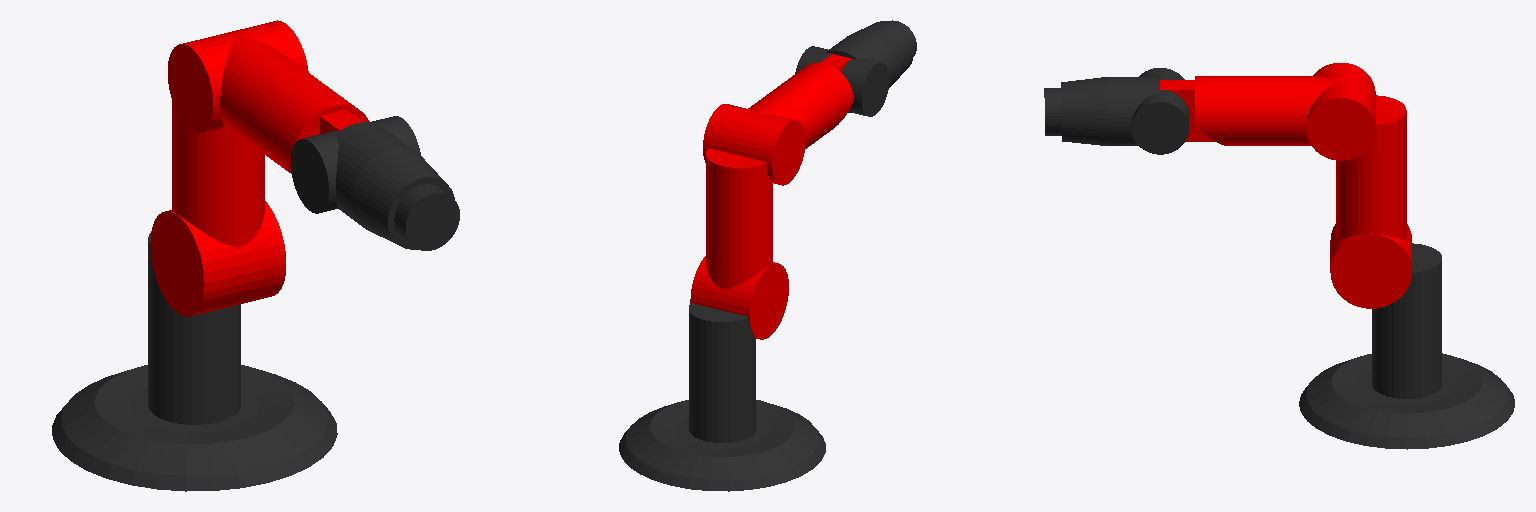
robot.urdf — gripbot:
<?xml version="1.0"?>
<!-- created with Phobos 0.7 -->
<robot name="gripbot">

  <link name="arm_visual_link">
    <inertial>
      <origin xyz="0 0 0" rpy="0 0 0"/>
      <mass value="19.56717"/>
      <inertia ixx="0.503760" ixy="0" ixz="0" iyy="0.07578849" iyz="0" izz="0.50375514"/>
    </inertial>
    <visual name="arm_visual">
      <origin xyz="0 0 0" rpy="0 0 0"/>
      <geometry>
        <mesh filename="package://gripbot_description/meshes/stl/ID36.001.stl" scale="1.0 1.0 1.0"/>
      </geometry>
      <material name="Color_A05"/>
    </visual>
    <collision name="gripbot::arm_visual">
      <origin xyz="-0.00265 -0.19123 0.0002" rpy="0 0 0"/>
      <geometry>
        <box size="0.15244 0.53451 0.15245"/>
      </geometry>
    </collision>
    <collision name="gripbot::girdle_receptor_visual">
      <origin xyz="0 0 0" rpy="0 0 0"/>
      <geometry>
        <box size="0.18304 0.15204 0.15204"/>
      </geometry>
    </collision>
  </link>

  <link name="base_column_link">
    <inertial>
      <origin xyz="0 0 0" rpy="0 0 0"/>
      <mass value="33.204"/>
      <inertia ixx="0.17785" ixy="0" ixz="0" iyy="0.15673" iyz="0" izz="0.156739"/>
    </inertial>
    <visual name="base_column_receptor_visual">
      <origin xyz="0 -0.07833 0.30885" rpy="0 0 0"/>
      <geometry>
        <mesh filename="package://gripbot_description/meshes/stl/Circle.002.stl" scale="1.0 1.0 1.0"/>
      </geometry>
      <material name="Color_A05"/>
    </visual>
    <visual name="base_column_visual">
      <origin xyz="0 0 0" rpy="0 0 0"/>
      <geometry>
        <mesh filename="package://gripbot_description/meshes/stl/Circle.stl" scale="1.0 1.0 1.0"/>
      </geometry>
      <material name="Color_M07"/>
    </visual>
    <collision name="gripbot::base_column_mount_visual">
      <origin xyz="0 -0.07833 0.30885" rpy="0 0 0"/>
      <geometry>
        <box size="0.15655 0.17927 0.17927"/>
      </geometry>
    </collision>
    <collision name="gripbot::base_column_visual">
      <origin xyz="0 0 0.15275" rpy="0 0 0"/>
      <geometry>
        <box size="0.15423 0.15423 0.30549"/>
      </geometry>
    </collision>
  </link>

  <link name="base_mount_link">
    <inertial>
      <origin xyz="0 0 0" rpy="0 0 0"/>
      <mass value="240"/>
      <inertia ixx="2.4213" ixy="0" ixz="0" iyy="2.4213" iyz="0" izz="4.76351"/>
    </inertial>
    <visual name="base_mount_visual">
      <origin xyz="0 0 0" rpy="0 0 0"/>
      <geometry>
        <mesh filename="package://gripbot_description/meshes/stl/Circle.004.stl" scale="1.0 1.0 1.0"/>
      </geometry>
      <material name="Color_M07"/>
    </visual>
    <collision name="gripbot::base_mount_visual">
      <origin xyz="0 0 -0.01433" rpy="0 0 0"/>
      <geometry>
        <box size="0.4898 0.4898 0.0631"/>
      </geometry>
    </collision>
  </link>

  <link name="forearm_visual_link">
    <inertial>
      <origin xyz="0 0 0" rpy="0 0 0"/>
      <mass value="9.055067"/>
      <inertia ixx="0.067333" ixy="0" ixz="0" iyy="0.0673332" iyz="0" izz="0.028292"/>
    </inertial>
    <visual name="forearm_visual">
      <origin xyz="0 0 0" rpy="0 0 0"/>
      <geometry>
        <mesh filename="package://gripbot_description/meshes/stl/ID82.001.stl" scale="1.0 1.0 1.0"/>
      </geometry>
      <material name="Color_M07"/>
    </visual>
    <collision name="forearm_collision">
      <origin xyz="0 0 0" rpy="1.5708 0 0"/>
      <geometry>
        <cylinder radius="0.07905" length="0.26549"/>
      </geometry>
    </collision>
    <collision name="forearm_mount_collision">
      <origin xyz="0 0 0" rpy="1.5708 0 1.5708"/>
      <geometry>
        <cylinder radius="0.0665" length="0.17955"/>
      </geometry>
    </collision>
  </link>

  <link name="girdle_visual_link">
    <inertial>
      <origin xyz="0 0 0" rpy="0 0 0"/>
      <mass value="8.62636"/>
      <inertia ixx="0.085577" ixy="0" ixz="0" iyy="0.085577" iyz="0" izz="0.034199"/>
    </inertial>
    <visual name="girdle_mount_visual">
      <origin xyz="0 0 0" rpy="0 0 0"/>
      <geometry>
        <mesh filename="package://gripbot_description/meshes/stl/Circle.005.stl" scale="1.0 1.0 1.0"/>
      </geometry>
      <material name="Color_A05"/>
    </visual>
    <visual name="girdle_receptor_visual">
      <origin xyz="0 0 0" rpy="0 0 0"/>
      <geometry>
        <mesh filename="package://gripbot_description/meshes/stl/Circle.001.stl" scale="1.0 1.0 1.0"/>
      </geometry>
      <material name="Color_A05"/>
    </visual>
    <visual name="girdle_visual">
      <origin xyz="0 0 0" rpy="0 0 0"/>
      <geometry>
        <mesh filename="package://gripbot_description/meshes/stl/Circle.003.stl" scale="1.0 1.0 1.0"/>
      </geometry>
      <material name="Color_A05"/>
    </visual>
    <collision name="gripbot::girdle_visual">
      <origin xyz="0 0 0.19929" rpy="0 0 0"/>
      <geometry>
        <box size="0.15423 0.15423 0.30864"/>
      </geometry>
    </collision>
  </link>

  <joint name="arm_visual_link" type="revolute">
    <origin xyz="0 -0.06624 0.34976" rpy="0 0 0"/>
    <parent link="girdle_visual_link"/>
    <child link="arm_visual_link"/>
    <axis xyz="1.0 0 0"/>
    <limit lower="-1.5708" upper="0.59341" effort="135000.0" velocity="6000.28319"/>
  </joint>

  <joint name="base_column_link" type="revolute">
    <origin xyz="0 0 0" rpy="0 0 0"/>
    <parent link="base_mount_link"/>
    <child link="base_column_link"/>
    <axis xyz="0 0 1.0"/>
    <limit lower="-3.14159" upper="3.14159" effort="135000.0" velocity="6000.28319"/>
  </joint>

  <joint name="forearm_visual_link" type="revolute">
    <origin xyz="-0.00268 -0.39555 -0.0001" rpy="0 0 0"/>
    <parent link="arm_visual_link"/>
    <child link="forearm_visual_link"/>
    <axis xyz="1.0 0 0"/>
    <limit lower="-1.5708" upper="2.18166" effort="135000.0" velocity="6000.28319"/>
  </joint>

  <joint name="girdle_visual_link" type="revolute">
    <origin xyz="0 -0.07833 0.30885" rpy="0 0 0"/>
    <parent link="base_column_link"/>
    <child link="girdle_visual_link"/>
    <axis xyz="1.0 0 0"/>
    <limit lower="-0.5236" upper="1.95477" effort="135000.0" velocity="6000.28319"/>
  </joint>

  <!-- Transmission -->
  <transmission name="base_column_tran1">
    <type>transmission_interface/SimpleTransmission</type>
    <joint name="base_column_link">
      <hardwareInterface>hardware_interface/EffortJointInterface</hardwareInterface>
    </joint>
    <actuator name="base_column_motor1">
      <hardwareInterface>hardware_interface/EffortJointInterface</hardwareInterface>
      <mechanicalReduction>1</mechanicalReduction>
    </actuator>
  </transmission>


  <transmission name="girdle_tran1">
    <type>transmission_interface/SimpleTransmission</type>
    <joint name="girdle_visual_link">
      <hardwareInterface>hardware_interface/EffortJointInterface</hardwareInterface>
    </joint>
    <actuator name="girdle_motor1">
      <hardwareInterface>hardware_interface/EffortJointInterface</hardwareInterface>
      <mechanicalReduction>1</mechanicalReduction>
    </actuator>
  </transmission>

  <transmission name="forearm_tran1">
    <type>transmission_interface/SimpleTransmission</type>
    <joint name="forearm_visual_link">
      <hardwareInterface>hardware_interface/EffortJointInterface</hardwareInterface>
    </joint>
    <actuator name="forearm_motor1">
      <hardwareInterface>hardware_interface/EffortJointInterface</hardwareInterface>
      <mechanicalReduction>1</mechanicalReduction>
    </actuator>
  </transmission>

  <transmission name="arm_tran1">
    <type>transmission_interface/SimpleTransmission</type>
    <joint name="arm_visual_link">
      <hardwareInterface>hardware_interface/EffortJointInterface</hardwareInterface>
    </joint>
    <actuator name="arm_motor1">
      <hardwareInterface>hardware_interface/EffortJointInterface</hardwareInterface>
      <mechanicalReduction>1</mechanicalReduction>
    </actuator>
  </transmission>

  <material name="Color_A05">
    <color rgba="1.0 0 0 1.0"/>
  </material>

  <material name="Color_M07">
    <color rgba="0.22745 0.22745 0.22745 1.0"/>
  </material>

  <!-- ros_control plugin -->
  <gazebo>
    <plugin name="gazebo_ros_control" filename="libgazebo_ros_control.so">
      <robotNamespace>/gripbot</robotNamespace>
      <robotSimType>gazebo_ros_control/DefaultRobotHWSim</robotSimType>
    </plugin>
  </gazebo>



  <gazebo reference="base_mount_link">
    <selfCollide>true</selfCollide>
    <static>true</static>
    <turnGravityOff>false</turnGravityOff>
  </gazebo>


  <gazebo reference="arm_visual_link">
    <mu1 value="500.0"/>
    <kp value="10.0"/>
    <kd value="1.0"/>
    <turnGravityOff>false</turnGravityOff>
  </gazebo>
  <gazebo reference="base_column_link">
    <mu1 value="500.0"/>
    <kp value="10.0"/>
    <kd value="1.0"/>
    <turnGravityOff>false</turnGravityOff>
  </gazebo>
  <gazebo reference="base_mount_link">
    <mu1 value="500.0"/>
    <kp value="10.0"/>
    <kd value="1.0"/>
    <turnGravityOff>false</turnGravityOff>
  </gazebo>
  <gazebo reference="forearm_visual_link">
    <mu1 value="500.0"/>
    <kp value="10.0"/>
    <kd value="1.0"/>
    <turnGravityOff>false</turnGravityOff>
  </gazebo>
  <gazebo reference="girdle_visual_link">
    <mu1 value="500.0"/>
    <kp value="10.0"/>
    <kd value="1.0"/>
    <turnGravityOff>false</turnGravityOff>
  </gazebo>

</robot>

--- Render facts (derived) ---
Views: 3 orthographic renders of the robot side by side, from view 1: azimuth 30°, elevation 25°; view 2: azimuth 150°, elevation 25°; view 3: azimuth 270°, elevation 25°.
Model gripbot with 5 links and 4 joints (4 revolute), rooted at base_mount_link, posed every joint at zero.
Visible links, largest first — view 1: base_mount_link, base_column_link, girdle_visual_link, forearm_visual_link, arm_visual_link; view 2: girdle_visual_link, base_mount_link, base_column_link, arm_visual_link, forearm_visual_link; view 3: base_column_link, base_mount_link, girdle_visual_link, arm_visual_link, forearm_visual_link.
Link boxes in pixels (left/top/right/bottom): base_mount_link: left=52, top=365, right=337, bottom=491; base_column_link: left=148, top=201, right=285, bottom=424; girdle_visual_link: left=168, top=20, right=308, bottom=308; forearm_visual_link: left=291, top=116, right=459, bottom=250; arm_visual_link: left=216, top=29, right=369, bottom=173; girdle_visual_link: left=703, top=104, right=805, bottom=311; base_mount_link: left=619, top=400, right=825, bottom=491; base_column_link: left=689, top=256, right=788, bottom=442; arm_visual_link: left=727, top=54, right=853, bottom=157; forearm_visual_link: left=795, top=20, right=916, bottom=116; base_column_link: left=1330, top=224, right=1441, bottom=398; base_mount_link: left=1299, top=353, right=1514, bottom=449; girdle_visual_link: left=1306, top=63, right=1411, bottom=259; arm_visual_link: left=1160, top=75, right=1375, bottom=145; forearm_visual_link: left=1044, top=68, right=1188, bottom=154.
Bounding box of the posed robot: 0.4737 × 1.03 × 0.7809 m (x, y, z).
Meshes: 8 distinct files referenced, 8 mesh visuals loaded (8 binary STL).